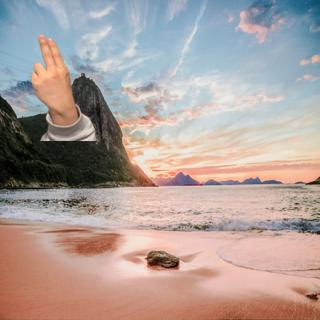DHAVE: (25, 31, 76, 113)
